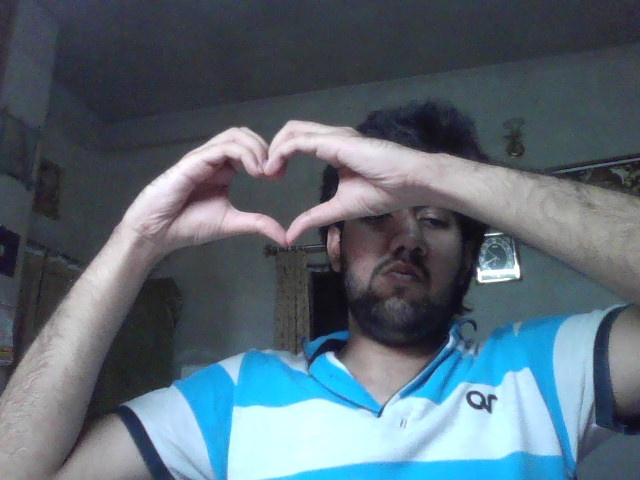Love: (142, 120, 402, 247)
